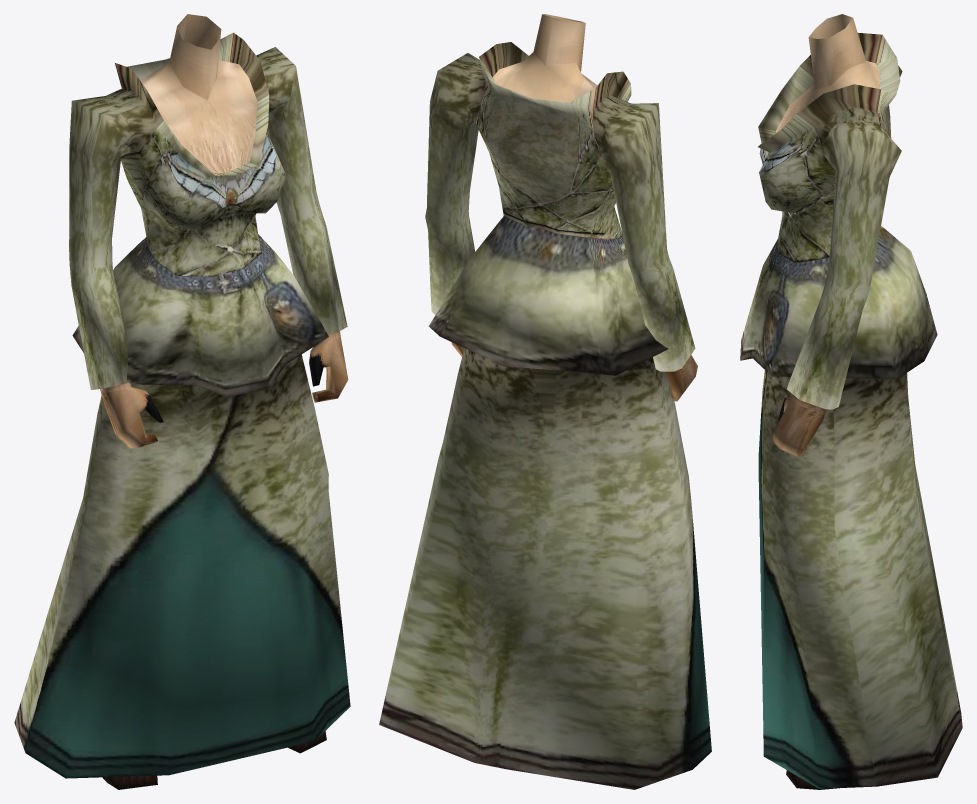
The model's file is ARMOR_VLKBABE_M.glb.
3 views of the same model, side by side, from view 1: azimuth 30°, elevation 25°; view 2: azimuth 150°, elevation 25°; view 3: azimuth 270°, elevation 25° (orthographic).
Visible parts, largest first — view 1: ARMOR_VLKBABE_M; view 2: ARMOR_VLKBABE_M; view 3: ARMOR_VLKBABE_M.
Part boxes in pixels (bbox=[...]): ARMOR_VLKBABE_M: bbox=[14, 14, 350, 789]; ARMOR_VLKBABE_M: bbox=[379, 14, 711, 789]; ARMOR_VLKBABE_M: bbox=[740, 14, 962, 789].
Bounding box in the file's own units: 0.7236 × 1.66 × 0.4654.
2 materials, 2 textured.
